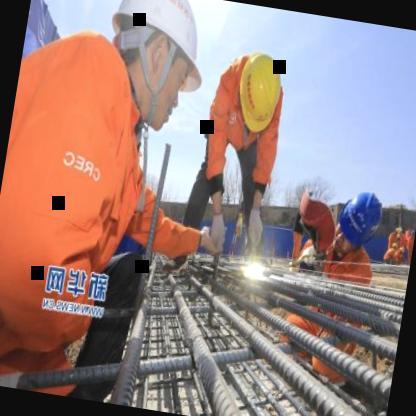helmet: (90, 0, 217, 129), (219, 43, 290, 154), (336, 183, 388, 252)
